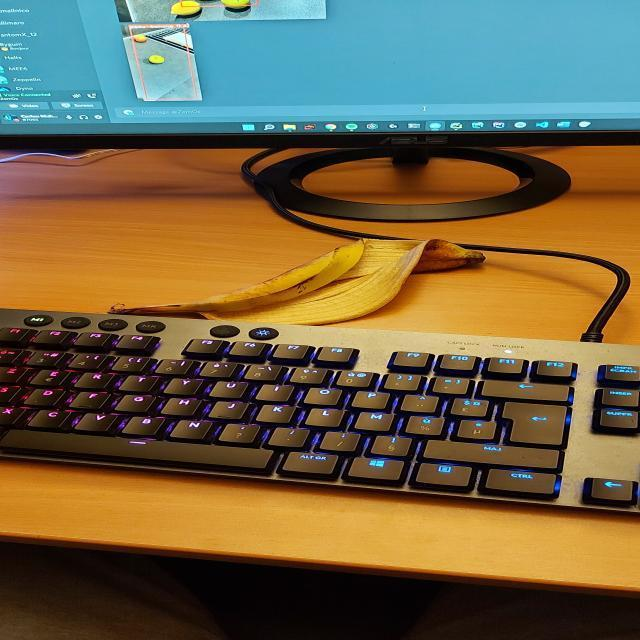banana-peel: (111, 235, 485, 324)
